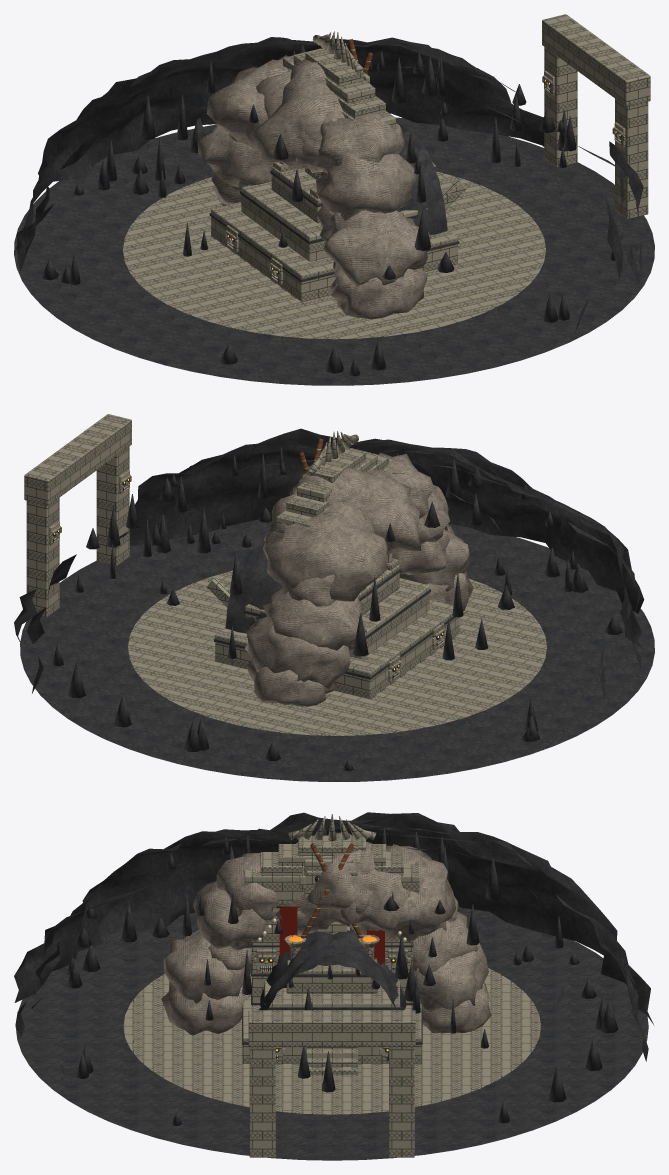
Rendered from temple_set.glb.
3 renders of one model, top to bottom at view 1: azimuth 30°, elevation 25°; view 2: azimuth 150°, elevation 25°; view 3: azimuth 270°, elevation 25°, orthographic.
Parts seen in each view (by area): view 1: cave_chamber_cave_rock, cave_chamber_temple_stone, temple_portal_rock, temple_shrine_temple_stone, temple_portal_temple_stone, tunnel_section_cave_rock, temple_shrine_cave_rock; view 2: cave_chamber_cave_rock, cave_chamber_temple_stone, temple_portal_rock, temple_shrine_temple_stone, temple_portal_temple_stone, tunnel_section_cave_rock, temple_shrine_cave_rock; view 3: cave_chamber_cave_rock, cave_chamber_temple_stone, temple_portal_rock, temple_portal_temple_stone, temple_shrine_temple_stone, tunnel_section_cave_rock, temple_portal_banner, temple_shrine_cave_rock, temple_portal_tribal_wood.
Part boxes in pixels (x1,y1,x2,y2): cave_chamber_cave_rock: (14,37,654,385); cave_chamber_temple_stone: (123,14,650,339); temple_portal_rock: (197,55,431,319); temple_shrine_temple_stone: (211,162,466,301); temple_portal_temple_stone: (279,31,395,127); tunnel_section_cave_rock: (397,126,447,234); temple_shrine_cave_rock: (209,170,459,282); cave_chamber_cave_rock: (14,428,654,781); cave_chamber_temple_stone: (24,414,546,735); temple_portal_rock: (244,452,473,706); temple_shrine_temple_stone: (207,553,459,698); temple_portal_temple_stone: (276,431,392,534); tunnel_section_cave_rock: (225,525,282,633); temple_shrine_cave_rock: (214,569,455,679); cave_chamber_cave_rock: (14,812,653,1160); cave_chamber_temple_stone: (123,968,540,1157); temple_portal_rock: (161,832,491,1035); temple_portal_temple_stone: (244,814,419,1005); temple_shrine_temple_stone: (242,926,421,1075); tunnel_section_cave_rock: (259,930,406,1010); temple_portal_banner: (279,907,384,964); temple_shrine_cave_rock: (242,974,422,1058); temple_portal_tribal_wood: (290,843,401,1010).
Size of the model in its own units: 31.82 by 13.6 by 32.22.
13 materials, 9 textured.
